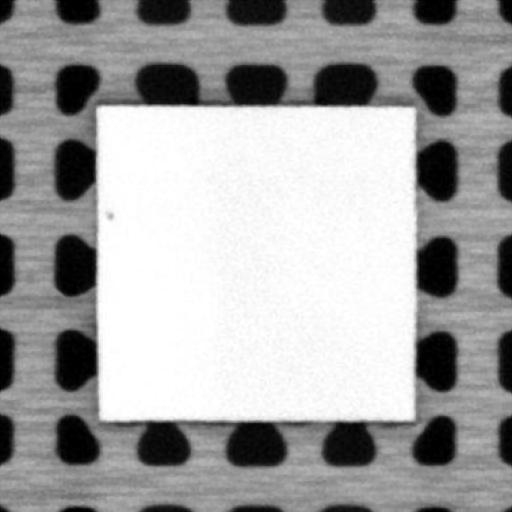DIE_INK: (102, 207, 114, 219)
